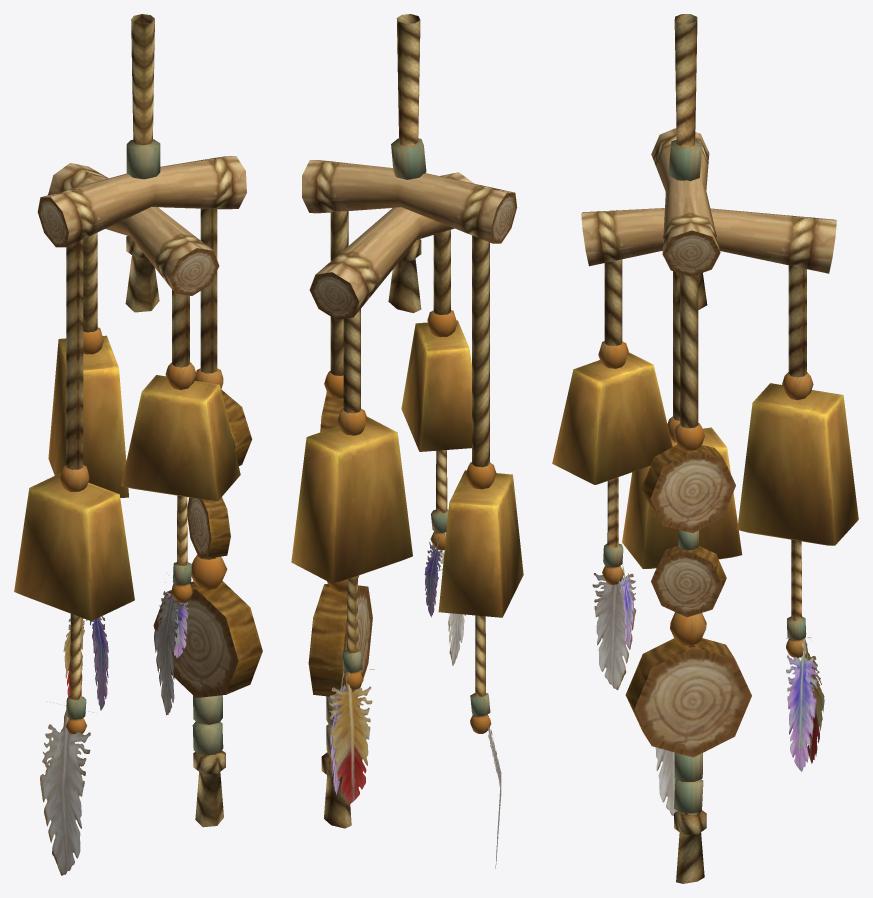
File: wt_hanging_03.obj
3 views of the same model, side by side, from view 1: azimuth 30°, elevation 25°; view 2: azimuth 150°, elevation 25°; view 3: azimuth 270°, elevation 25° (orthographic).
Visible parts, largest first — view 1: wt_hanging_03; view 2: wt_hanging_03; view 3: wt_hanging_03.
Boxes of the visible parts, bbox=[...] form: wt_hanging_03: bbox=[14, 14, 262, 875]; wt_hanging_03: bbox=[291, 14, 523, 868]; wt_hanging_03: bbox=[552, 14, 858, 883].
Bounding box in the file's own units: 1.05 × 4.03 × 1.32.
1 material, 1 textured.
